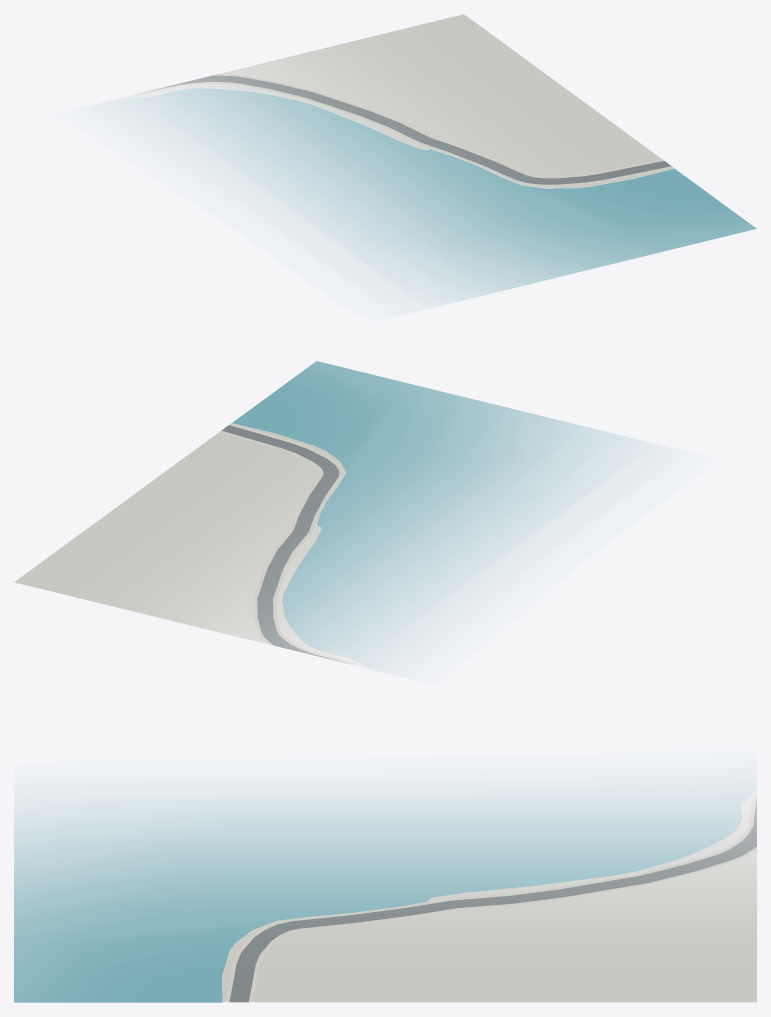
The picture shows the model from 3 angles, top to bottom: view 1: azimuth 30°, elevation 25°; view 2: azimuth 150°, elevation 25°; view 3: azimuth 270°, elevation 25°; orthographic projection. The views are drawn at different scales.
Visible parts, largest first — view 1: city; view 2: city; view 3: city.
Boxes of the visible parts, x1,y1,x2,y2 form: city: (117,14,756,305); city: (14,361,645,669); city: (14,787,756,1002).
Size of the model in its own units: 443 by 0.4 by 500.
